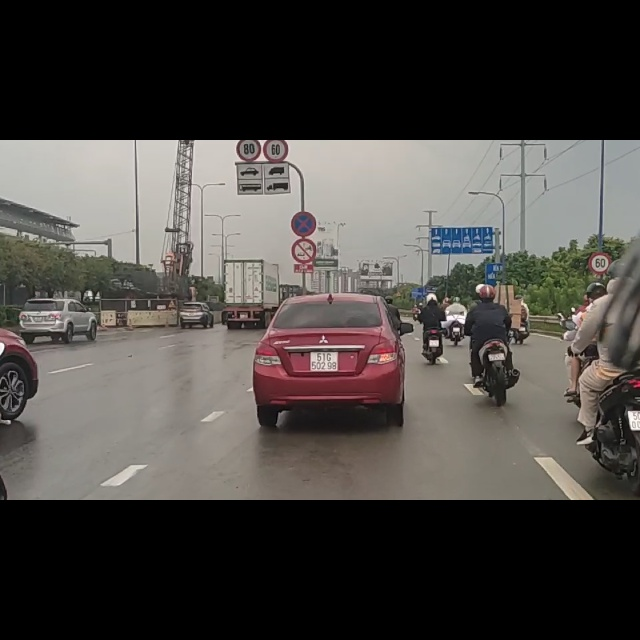bien_chi_dan: (291, 127, 317, 172), (263, 1, 289, 39), (236, 1, 261, 38)
